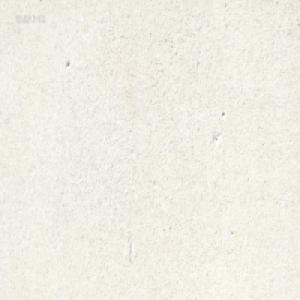Wrench: (132, 0, 139, 4)
